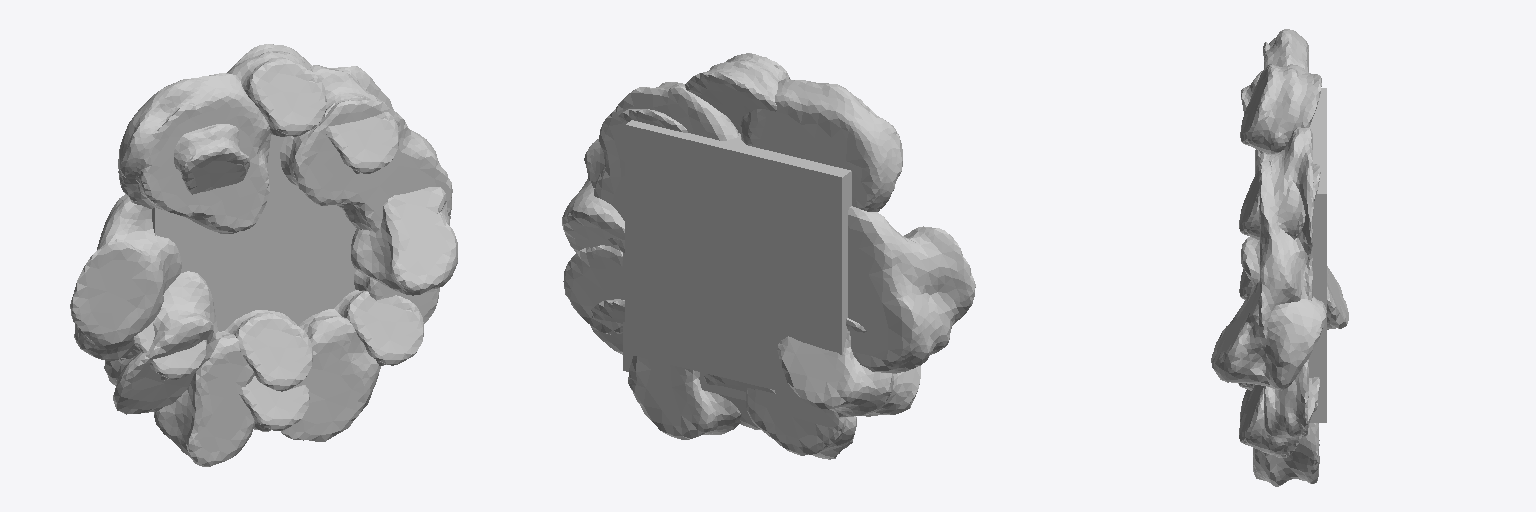
File: rocks.obj
3 renders of one model, left to right at view 1: azimuth 30°, elevation 25°; view 2: azimuth 150°, elevation 25°; view 3: azimuth 270°, elevation 25°, orthographic.
Visible parts, largest first — view 1: Cube, ShortFlatRock_A, ShortFlatRock_B, ShortFlatRock_C, ShortFlatRock_E.001, ShortFlatRock_E, ShortFlatRock_D.001, ShortFlatRock_D, ShortFlatRock_F.004, ShortFlatRock_F.007, ShortFlatRock_F.003, ShortFlatRock_F.002 (+4 smaller); view 2: Cube, ShortFlatRock_C, ShortFlatRock_A, ShortFlatRock_D.001, ShortFlatRock_B, ShortFlatRock_D, ShortFlatRock_E, ShortFlatRock_F.004, ShortFlatRock_F, ShortFlatRock_E.001, ShortFlatRock_F.003, ShortFlatRock_F.005 (+2 smaller); view 3: ShortFlatRock_B, ShortFlatRock_E.001, ShortFlatRock_F.004, Cube, ShortFlatRock_F, ShortFlatRock_D, ShortFlatRock_F.006, ShortFlatRock_F.003, ShortFlatRock_D.001, ShortFlatRock_A.
Boxes of the visible parts, <box> form: Cube: <box>152,135,356,331</box>; ShortFlatRock_A: <box>118,73,270,233</box>; ShortFlatRock_B: <box>280,65,452,232</box>; ShortFlatRock_C: <box>70,194,181,361</box>; ShortFlatRock_E.001: <box>351,187,457,295</box>; ShortFlatRock_E: <box>154,331,254,466</box>; ShortFlatRock_D.001: <box>104,271,221,414</box>; ShortFlatRock_D: <box>281,309,380,441</box>; ShortFlatRock_F.004: <box>227,44,326,136</box>; ShortFlatRock_F.007: <box>225,310,312,391</box>; ShortFlatRock_F.003: <box>334,290,423,365</box>; ShortFlatRock_F.002: <box>174,124,249,194</box>; Cube: <box>625,120,851,395</box>; ShortFlatRock_C: <box>848,206,975,373</box>; ShortFlatRock_A: <box>741,79,902,211</box>; ShortFlatRock_D.001: <box>777,331,920,416</box>; ShortFlatRock_B: <box>584,82,738,252</box>; ShortFlatRock_D: <box>628,356,741,439</box>; ShortFlatRock_E: <box>746,388,856,459</box>; ShortFlatRock_F.004: <box>685,53,789,133</box>; ShortFlatRock_F: <box>563,245,622,334</box>; ShortFlatRock_E.001: <box>562,176,624,252</box>; ShortFlatRock_F.003: <box>590,299,624,354</box>; ShortFlatRock_F.005: <box>704,374,775,429</box>; ShortFlatRock_B: <box>1259,127,1313,349</box>; ShortFlatRock_E.001: <box>1211,281,1326,390</box>; ShortFlatRock_F.004: <box>1240,64,1321,153</box>; Cube: <box>1308,88,1326,422</box>; ShortFlatRock_F: <box>1264,359,1308,437</box>; ShortFlatRock_D: <box>1253,384,1319,486</box>; ShortFlatRock_F.006: <box>1239,153,1320,240</box>; ShortFlatRock_F.003: <box>1239,377,1319,457</box>; ShortFlatRock_D.001: <box>1241,237,1348,329</box>; ShortFlatRock_A: <box>1263,29,1308,153</box>.
Size of the model in its own units: 0.1314 by 0.1244 by 0.0399.